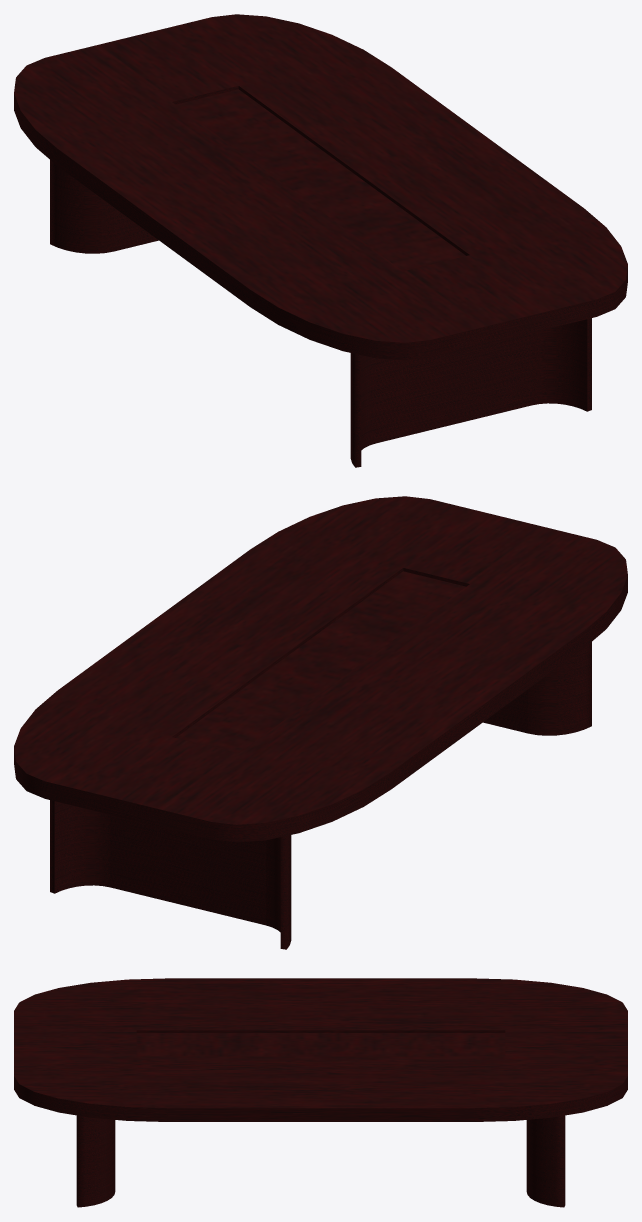
Rendered from round_table.obj.
3 renders of one model, top to bottom at view 1: azimuth 30°, elevation 25°; view 2: azimuth 150°, elevation 25°; view 3: azimuth 270°, elevation 25°, orthographic. The views are drawn at different scales.
Visible parts, largest first — view 1: round_table; view 2: round_table; view 3: round_table.
Boxes of the visible parts, bbox=[...] form: round_table: bbox=[14, 14, 627, 467]; round_table: bbox=[14, 496, 627, 949]; round_table: bbox=[14, 978, 627, 1207].
Size of the model in its own units: 1.8 by 0.765 by 3.6.
1 material, 1 textured.
